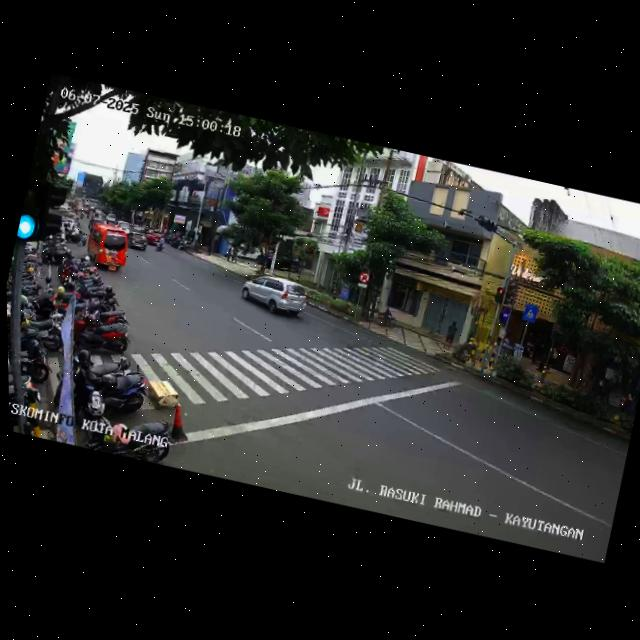car: (237, 270, 312, 323), (81, 220, 133, 275), (123, 229, 150, 252)
motorcycle: (153, 234, 167, 253)
